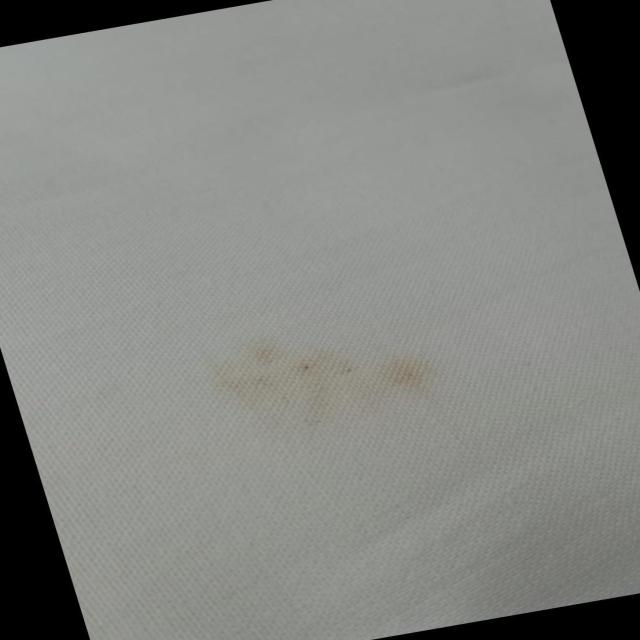stain: (191, 301, 463, 457)
